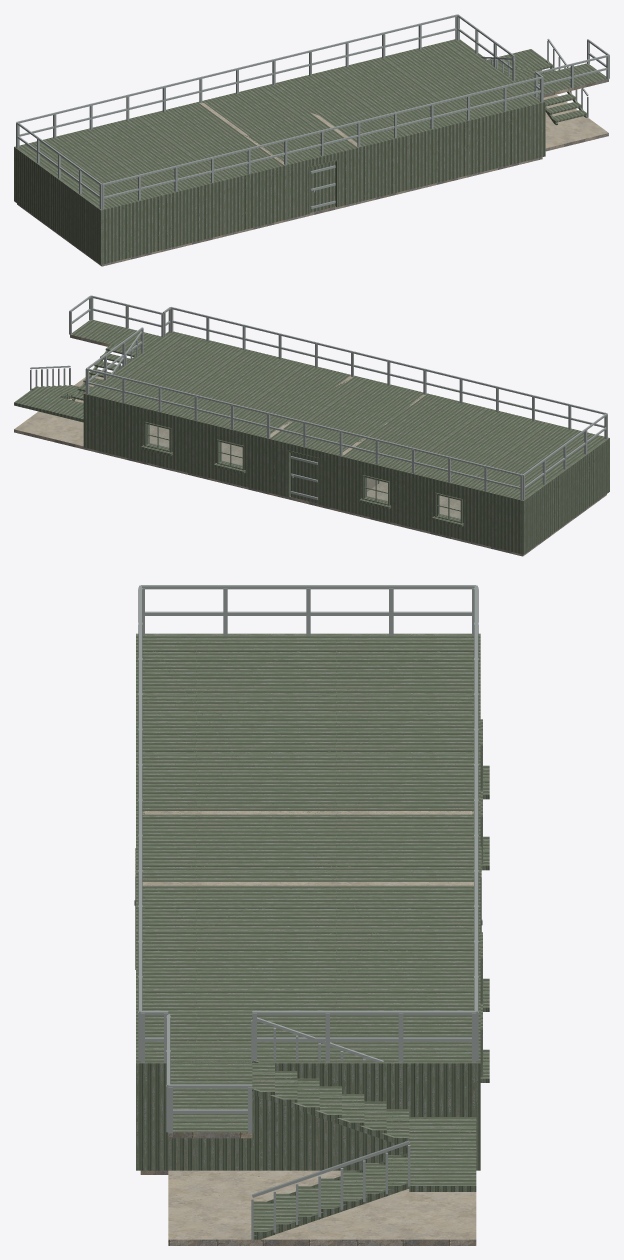
The model's file is cyclone-barracks-roof-stair.gltf.
3 renders of one model, top to bottom at view 1: azimuth 30°, elevation 25°; view 2: azimuth 150°, elevation 25°; view 3: azimuth 270°, elevation 25°, orthographic. The views are drawn at different scales.
Visible parts, largest first — view 1: roof-L1-metal, exterior-L0-metal, roof-guards-L1-iron, datum-band-L0-metal, stairs-L0-metal, floor-L0-stone, floor-L0-plaster, walkway-L1-metal, door-L0-metal, guards-L1-iron, stairs-L0-iron, interior-L0-plaster; view 2: roof-L1-metal, exterior-L0-metal, roof-guards-L1-iron, datum-band-L0-metal, floor-L0-plaster, stairs-L0-metal, facade-trim-L0-metal, glazing-L0-glass, floor-L0-stone, walkway-L1-metal, door-L0-metal, guards-L1-iron (+2 smaller); view 3: roof-L1-metal, exterior-L0-metal, stairs-L0-metal, floor-L0-plaster, roof-guards-L1-iron, datum-band-L0-metal, walkway-L1-metal, interior-L0-plaster, stairs-L0-iron, floor-L0-stone, facade-trim-L0-metal, guards-L1-iron.
Boxes of the visible parts, x1,y1,x2,y2 form: roof-L1-metal: [20, 41, 539, 207]; exterior-L0-metal: [14, 105, 545, 264]; roof-guards-L1-iron: [16, 14, 543, 209]; datum-band-L0-metal: [14, 39, 545, 213]; stairs-L0-metal: [488, 49, 587, 124]; floor-L0-stone: [17, 133, 608, 266]; floor-L0-plaster: [543, 94, 608, 148]; walkway-L1-metal: [515, 63, 606, 95]; door-L0-metal: [310, 162, 335, 212]; guards-L1-iron: [537, 39, 609, 96]; stairs-L0-iron: [481, 38, 588, 117]; interior-L0-plaster: [199, 84, 357, 164]; roof-L1-metal: [90, 333, 605, 498]; exterior-L0-metal: [83, 397, 609, 554]; roof-guards-L1-iron: [85, 307, 607, 499]; datum-band-L0-metal: [83, 331, 609, 503]; floor-L0-plaster: [14, 375, 460, 518]; stairs-L0-metal: [14, 343, 140, 422]; facade-trim-L0-metal: [141, 421, 463, 527]; glazing-L0-glass: [147, 425, 460, 519]; floor-L0-stone: [14, 429, 606, 556]; walkway-L1-metal: [71, 320, 161, 351]; door-L0-metal: [291, 452, 317, 503]; guards-L1-iron: [69, 295, 163, 337]; roof-L1-metal: [142, 635, 473, 1061]; exterior-L0-metal: [136, 1069, 480, 1170]; stairs-L0-metal: [252, 1060, 476, 1239]; floor-L0-plaster: [168, 1170, 476, 1239]; roof-guards-L1-iron: [138, 585, 478, 1062]; datum-band-L0-metal: [136, 633, 480, 1069]; walkway-L1-metal: [170, 1061, 252, 1132]; interior-L0-plaster: [142, 811, 473, 885]; stairs-L0-iron: [251, 1017, 410, 1240]; floor-L0-stone: [140, 1170, 476, 1245]; facade-trim-L0-metal: [480, 719, 489, 1082]; guards-L1-iron: [166, 1014, 252, 1133].
Size of the model in its own units: 21.12 by 3.22 by 6.35.
5 materials, 3 textured.
